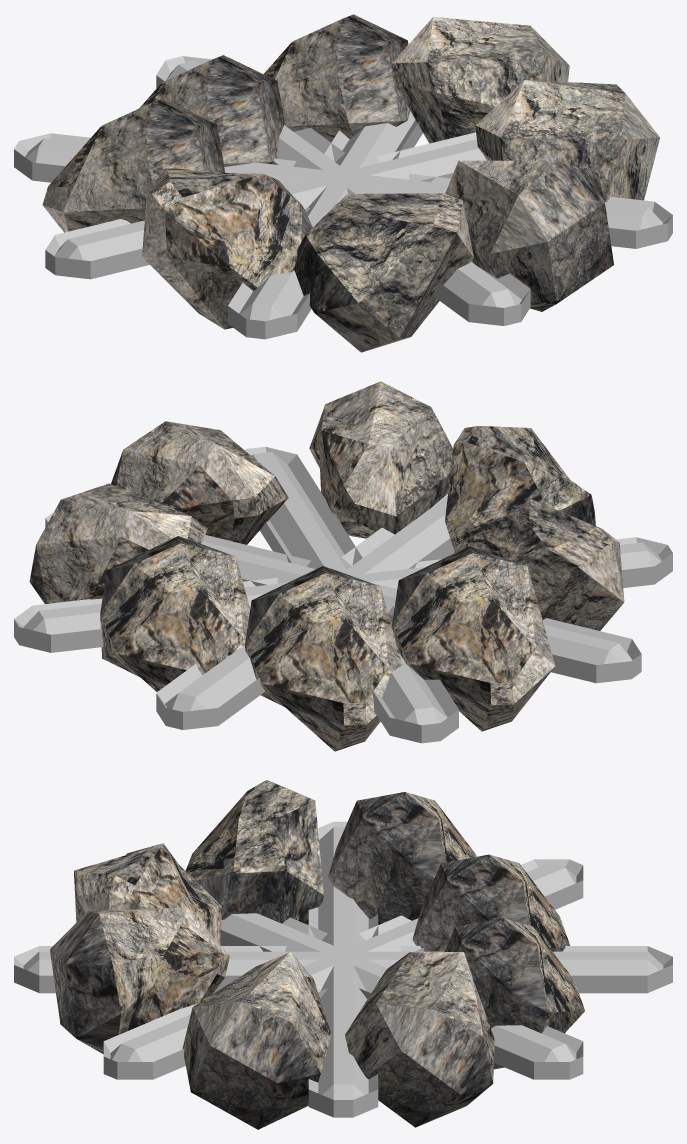
Rendered from fogueira.fbx.
The picture shows the model from 3 angles, top to bottom: view 1: azimuth 30°, elevation 25°; view 2: azimuth 150°, elevation 25°; view 3: azimuth 270°, elevation 25°; orthographic projection. The views are drawn at different scales.
Parts seen in each view (by area): view 1: Plane.001; view 2: Plane.001; view 3: Plane.001.
Boxes of the visible parts, x1,y1,x2,y2 form: Plane.001: [14, 14, 672, 352]; Plane.001: [14, 381, 672, 751]; Plane.001: [14, 780, 672, 1129].
Bounding box in the file's own units: 152 × 40.76 × 152.
